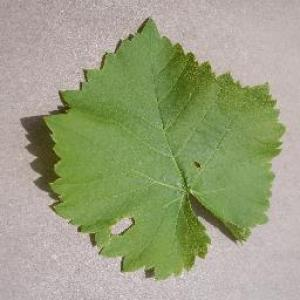Folha: (41, 15, 286, 281)
